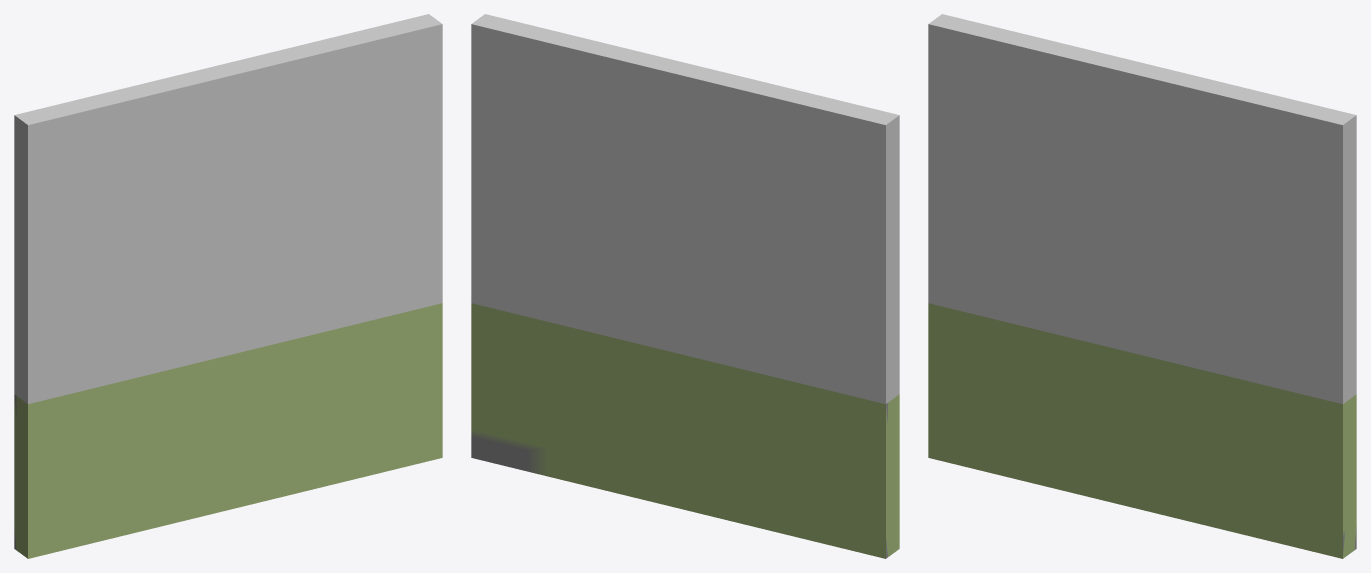
Rendered from Kinder3_ColorWall_Full.fbx.
The picture shows the model from 3 angles, left to right: view 1: azimuth 30°, elevation 25°; view 2: azimuth 150°, elevation 25°; view 3: azimuth 330°, elevation 25°; orthographic projection.
Parts seen in each view (by area): view 1: WallFloor2_01__6_.001; view 2: WallFloor2_01__6_.001; view 3: WallFloor2_01__6_.001.
Part boxes in pixels (<box>): WallFloor2_01__6_.001: <box>14,14,442,558</box>; WallFloor2_01__6_.001: <box>471,14,899,558</box>; WallFloor2_01__6_.001: <box>928,14,1356,558</box>.
Bounding box in the file's own units: 250 × 250 × 14.42.
